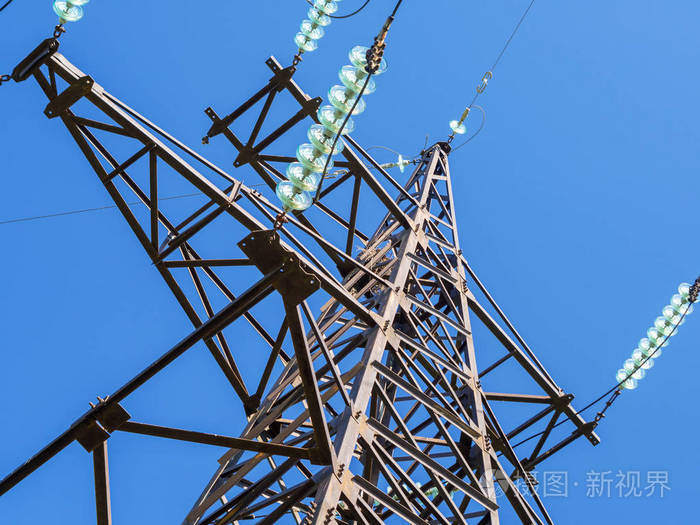insulator: (280, 42, 384, 213), (618, 284, 695, 387), (298, 1, 340, 54)
